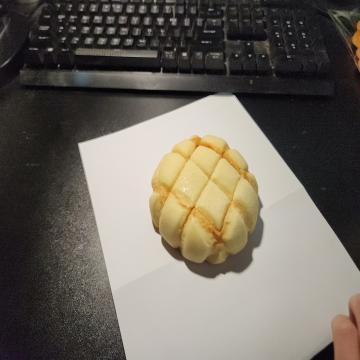melon_bread: (150, 134, 260, 263)
